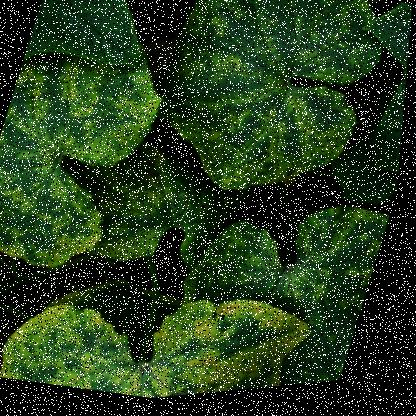DownyMildew: (5, 255, 317, 413), (167, 0, 385, 190), (0, 45, 157, 285)
